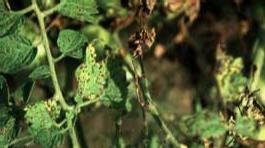Tomato Septoria leaf spot: (18, 94, 74, 148), (72, 41, 111, 103), (0, 32, 42, 73), (0, 97, 30, 148), (52, 25, 94, 59), (48, 0, 100, 22)
